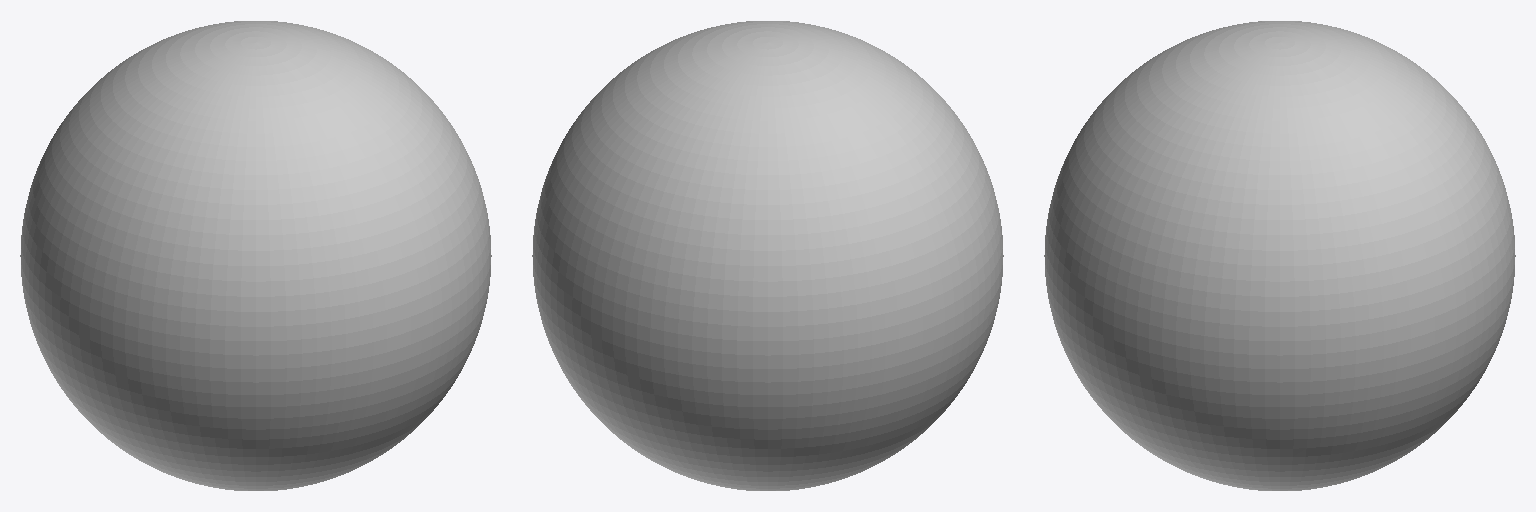
Rendered from unit_uv_sphere.obj.
3 views of the same model, side by side, from view 1: azimuth 30°, elevation 25°; view 2: azimuth 150°, elevation 25°; view 3: azimuth 270°, elevation 25° (orthographic).
Visible parts, largest first — view 1: Sphere; view 2: Sphere; view 3: Sphere.
Part boxes in pixels (x1,y1,x2,y2): Sphere: (20, 21, 491, 490); Sphere: (532, 21, 1003, 490); Sphere: (1044, 21, 1515, 490).
Bounding box in the file's own units: 2 × 2 × 2.